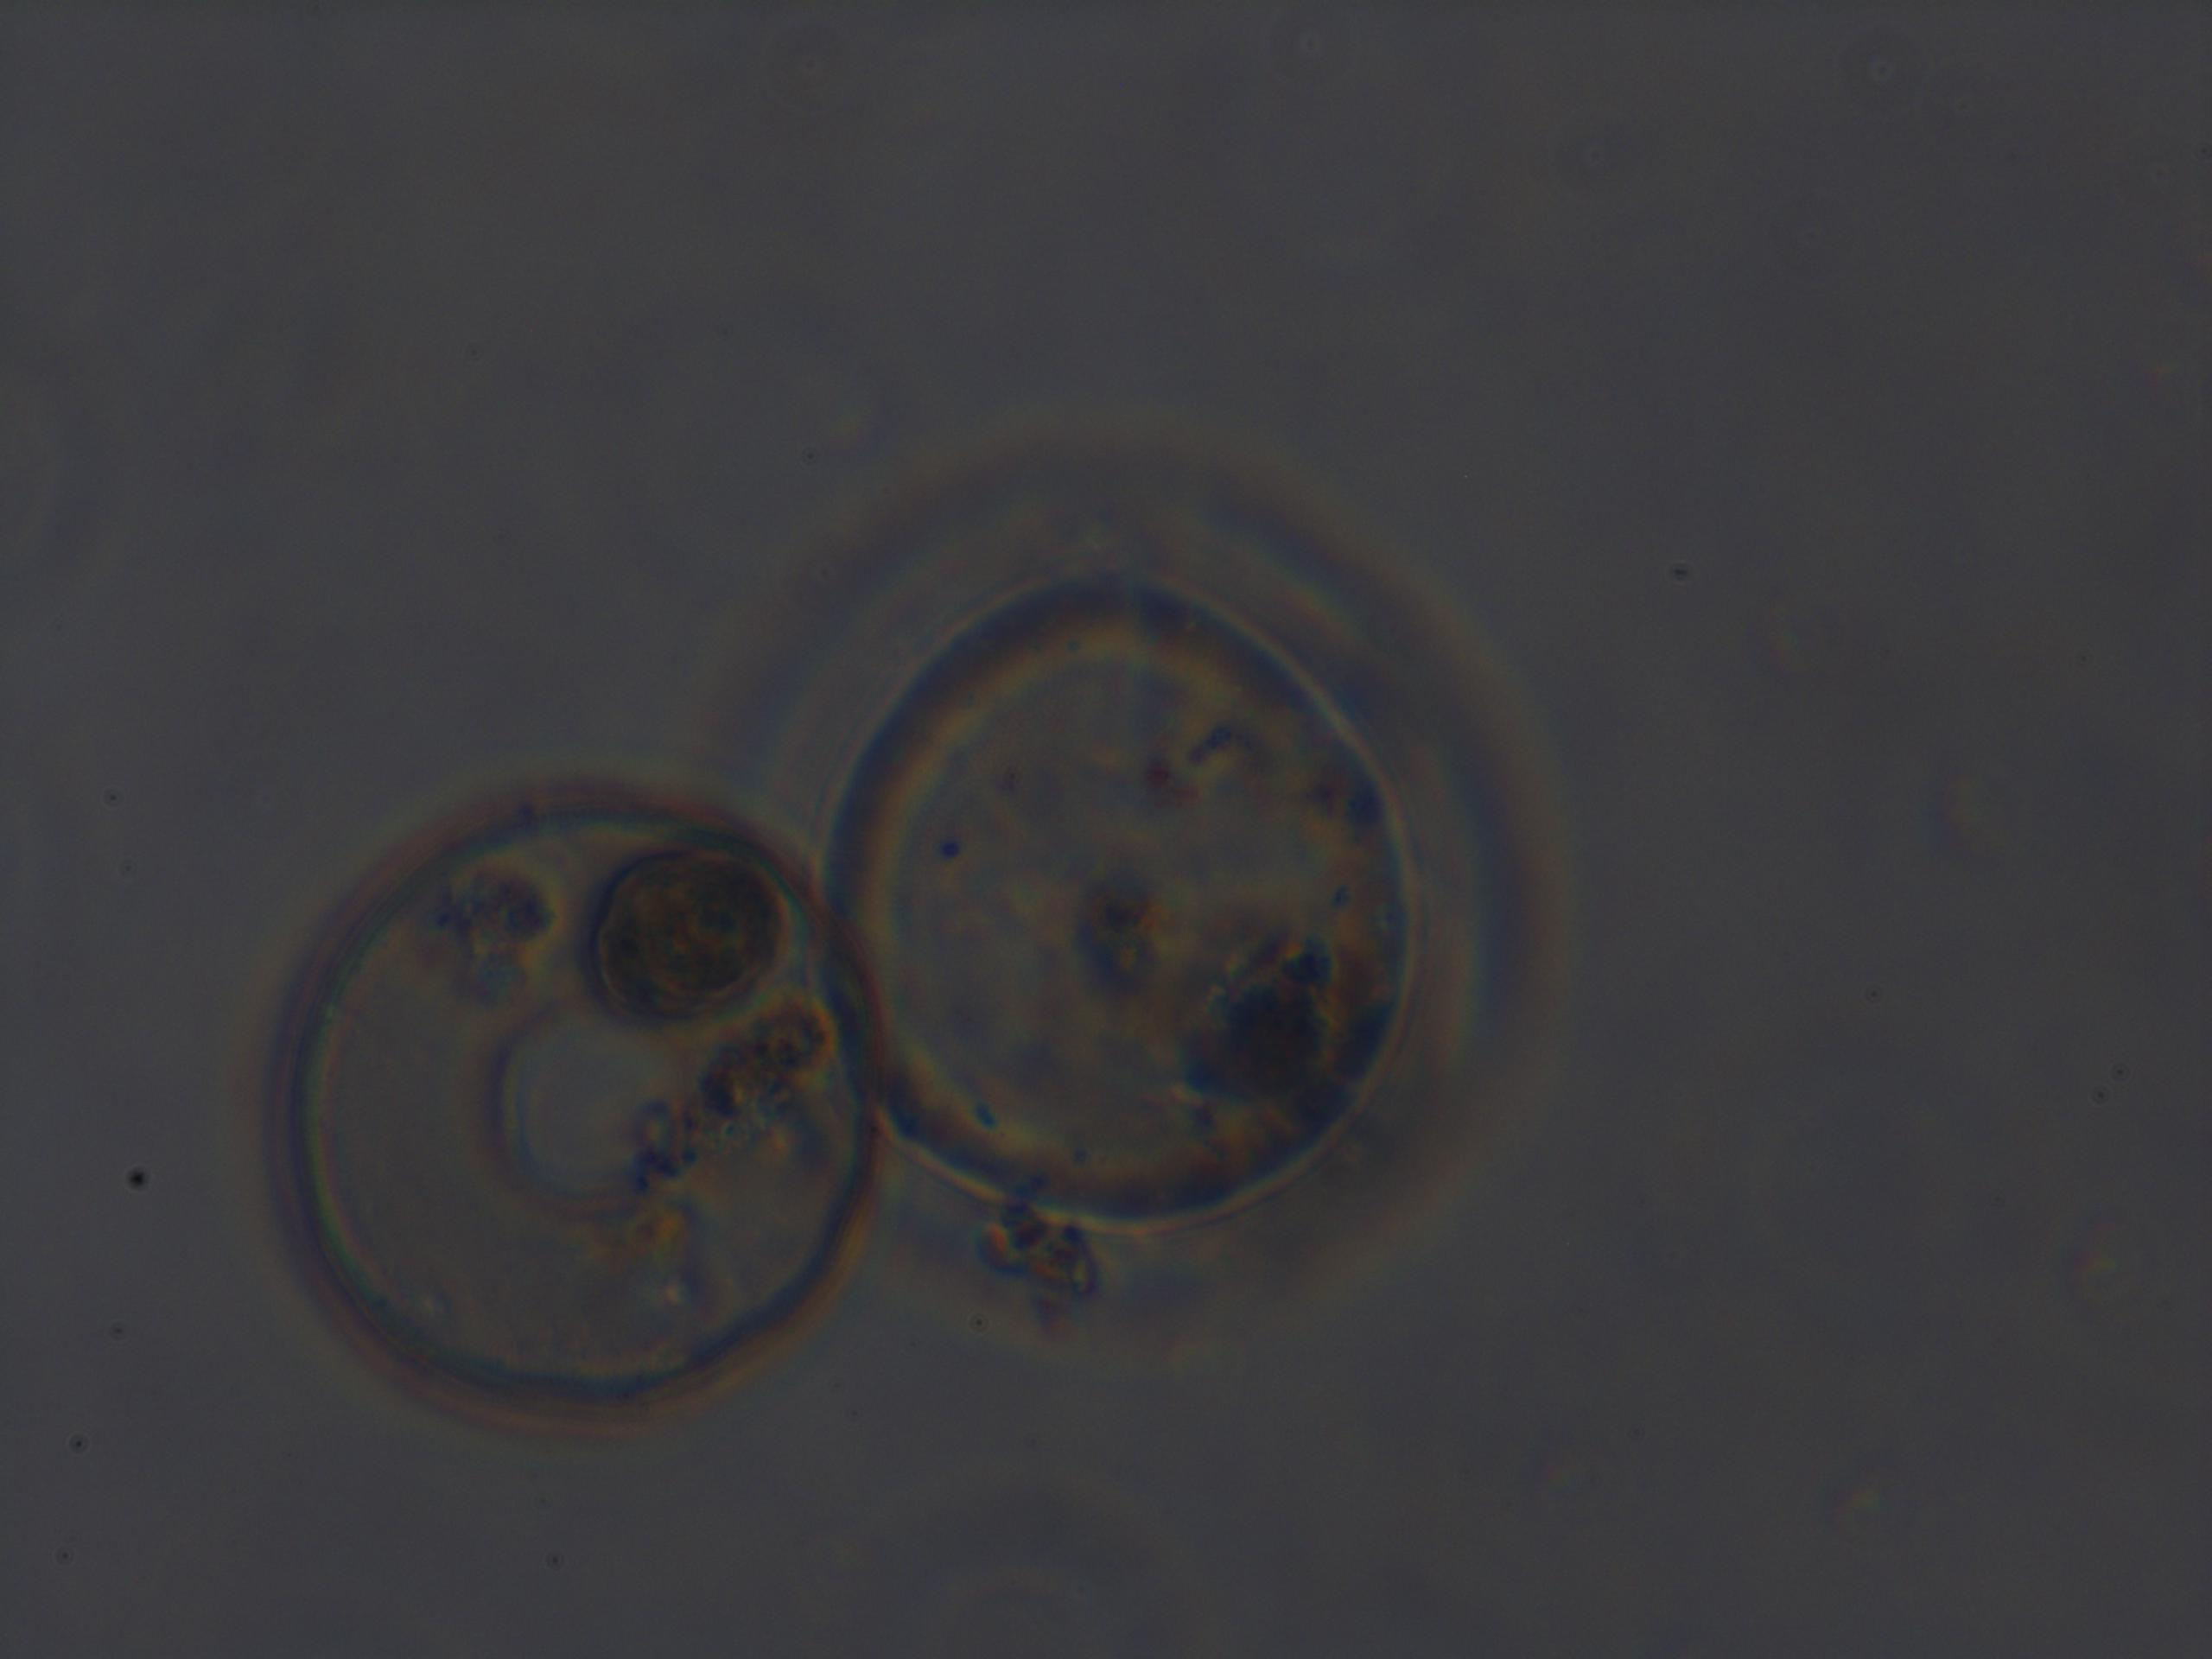protozoa: (718, 403, 1578, 1403), (235, 735, 876, 1466)
